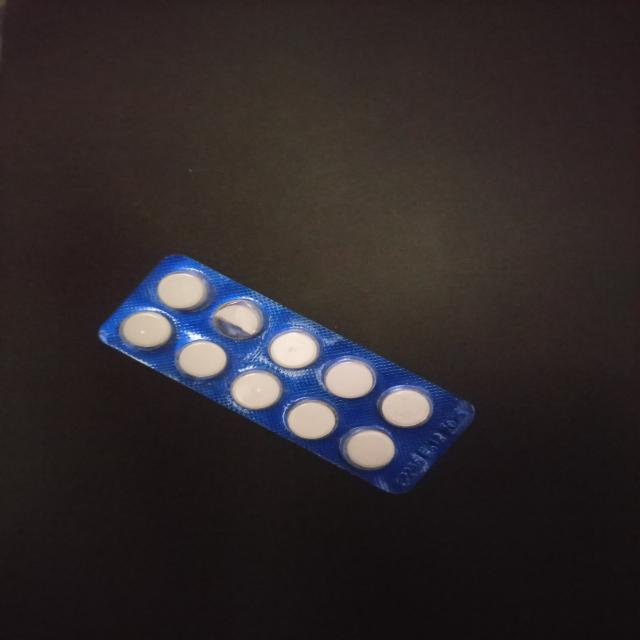defect: (210, 296, 271, 342)
